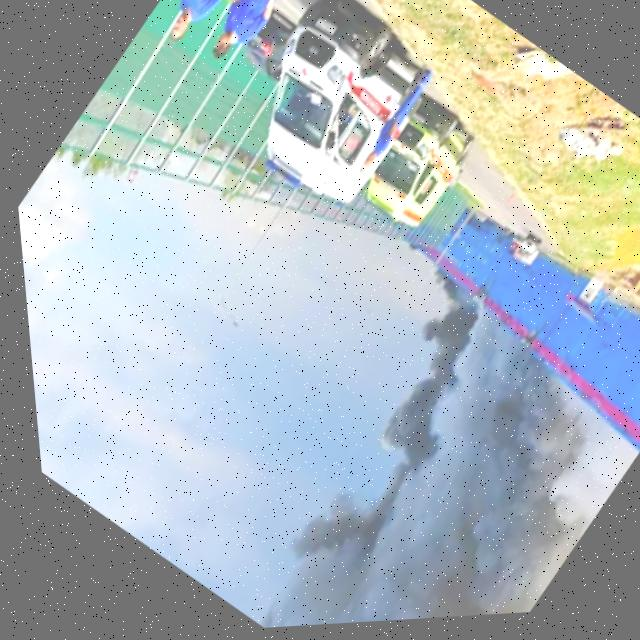Smoke: (176, 258, 640, 633)
